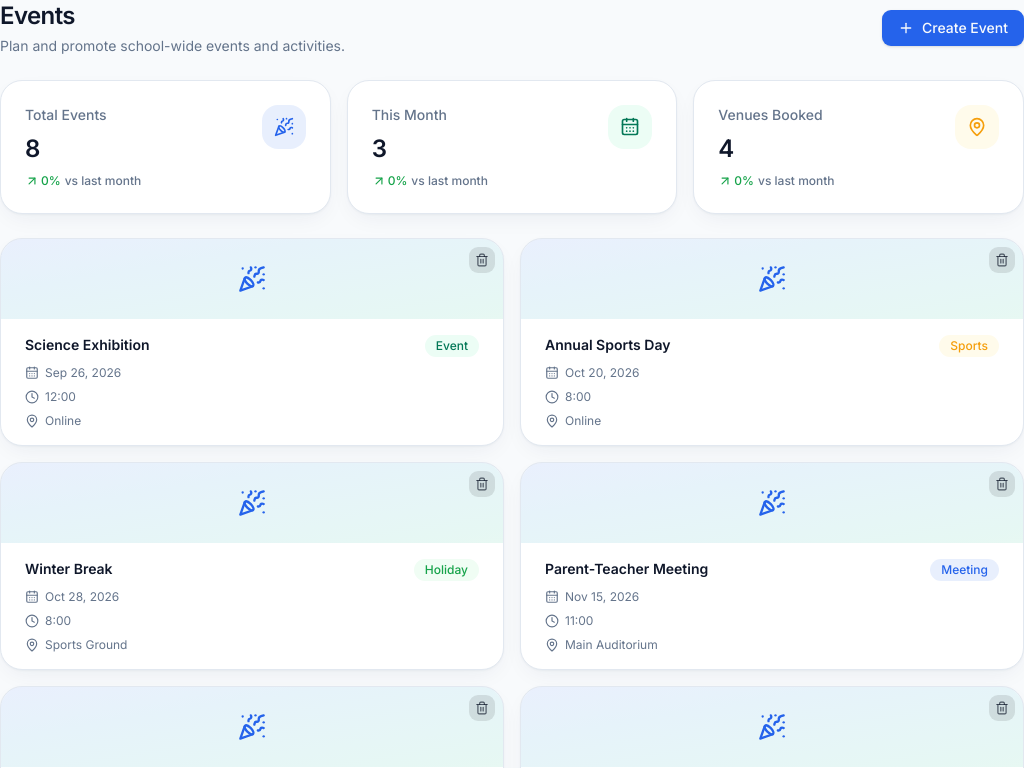
Test: EventsPage › deletes an event when the delete confirmation is accepted and updates the Total Events stat
This screenshot has width=1024, height=768.
What coordinates should you click on to do the following:
click the 2nd button
I would click on:
 (482, 260)
Its box is [469,247,495,273].
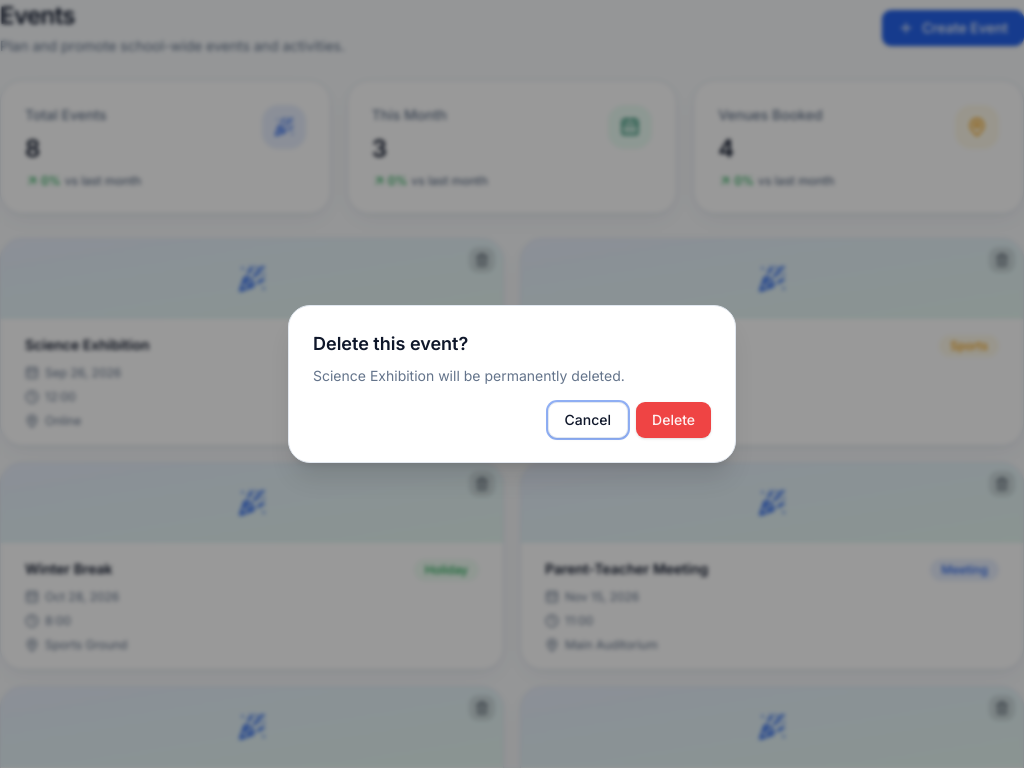
What coordinates should you click on to do the following:
click the button "Delete"
I would click on:
 (674, 420)
Its box is [636,402,711,438].
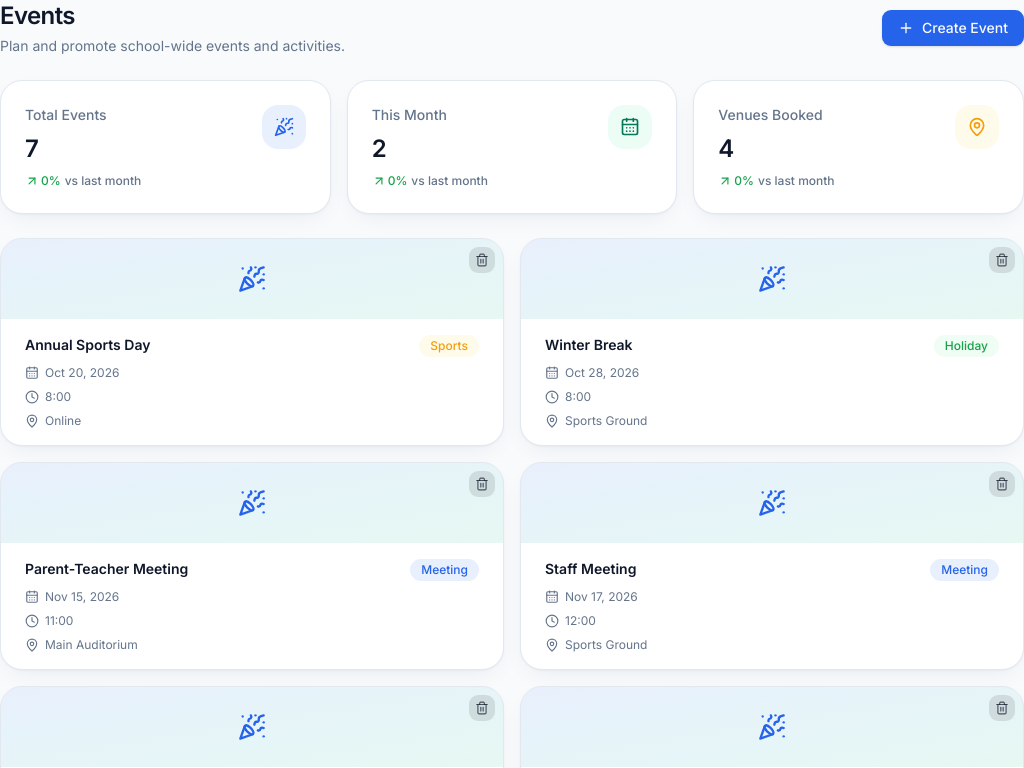
Expected: the text "Science Exhibition" is gone
